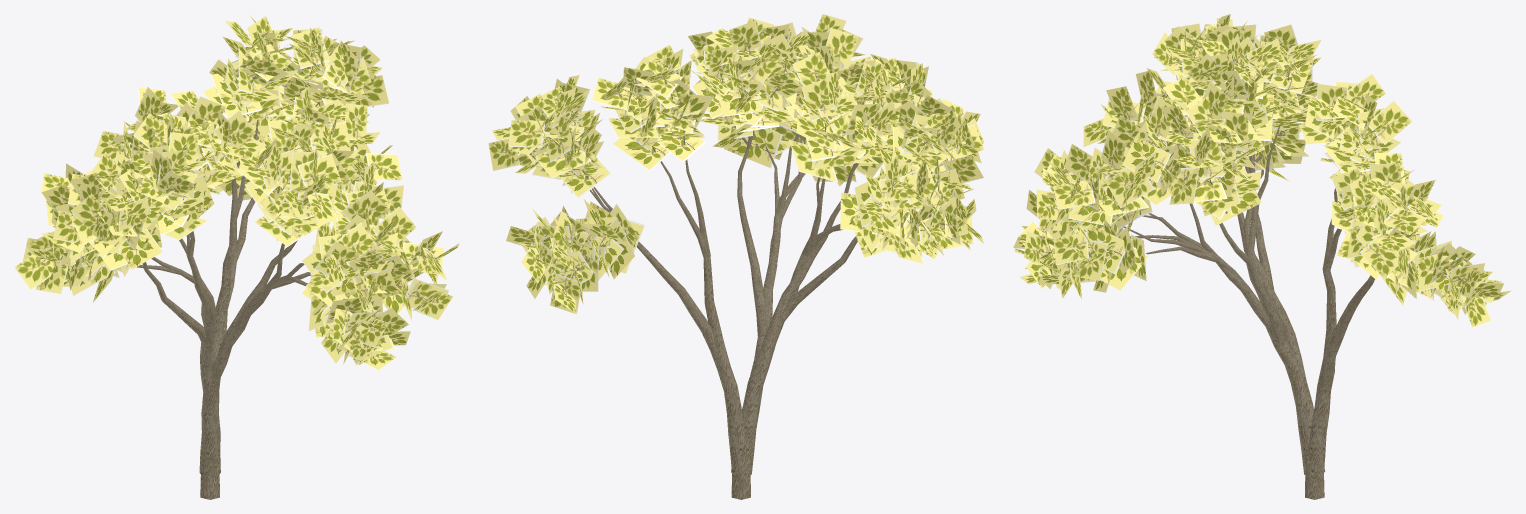
The model's file is Tree_5_1.glb.
3 views of the same model, side by side, from view 1: azimuth 30°, elevation 25°; view 2: azimuth 150°, elevation 25°; view 3: azimuth 270°, elevation 25° (orthographic).
Parts seen in each view (by area): view 1: Tree_5_V1; view 2: Tree_5_V1; view 3: Tree_5_V1.
Boxes of the visible parts, x1,y1,x2,y2 form: Tree_5_V1: [14, 15, 459, 499]; Tree_5_V1: [488, 14, 984, 499]; Tree_5_V1: [1013, 14, 1511, 499].
Bounding box in the file's own units: 3.08 × 3 × 3.07.
Materials: 1 (1 with a texture image).
